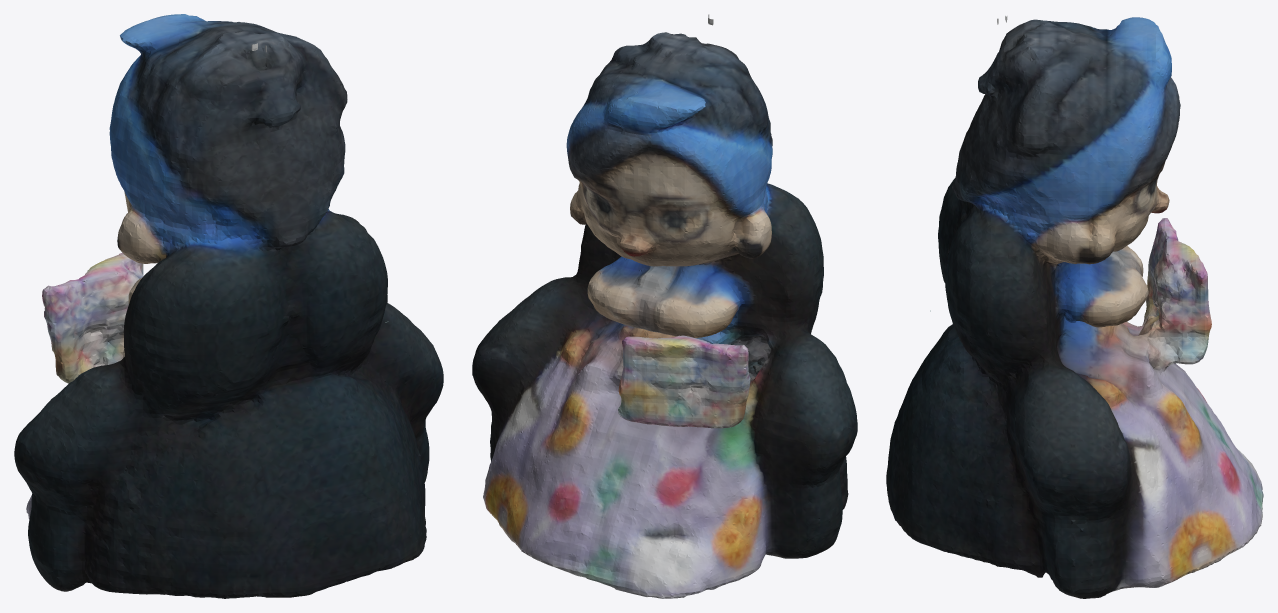
The model's file is shellyjemima.glb.
3 views of the same model, side by side, from view 1: azimuth 30°, elevation 25°; view 2: azimuth 150°, elevation 25°; view 3: azimuth 270°, elevation 25° (orthographic). The views are drawn at different scales.
Visible parts, largest first — view 1: world; view 2: world; view 3: world.
Boxes of the visible parts, x1=… form: world: x1=14, y1=14, x2=443, y2=598; world: x1=472, y1=14, x2=857, y2=598; world: x1=886, y1=16, x2=1263, y2=598.
Bounding box in the file's own units: 1.63 × 2.08 × 1.39.
